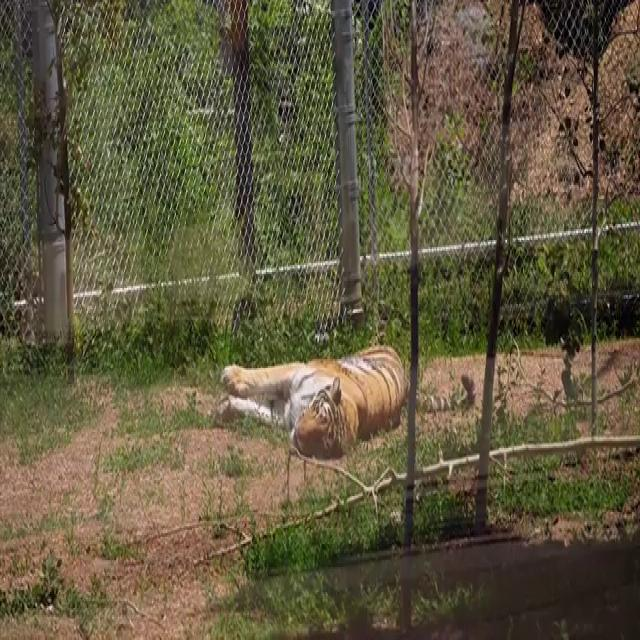tiger: (216, 343, 478, 458)
